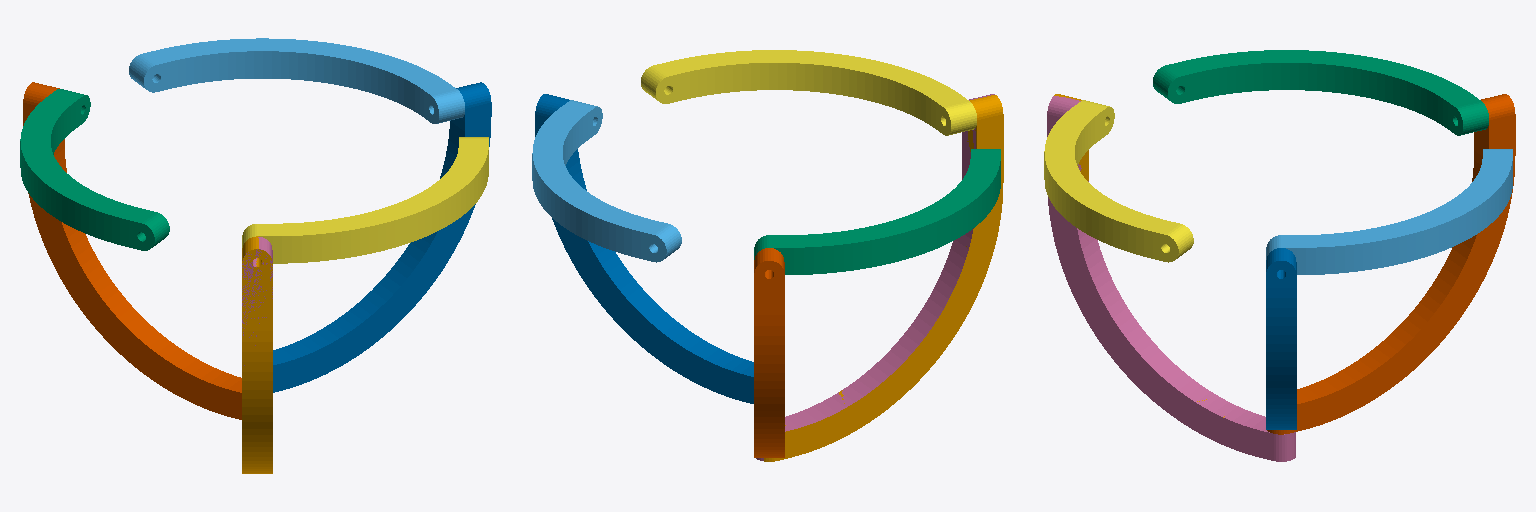
robot.urdf — parallel_spherical:
<?xml version="1.0" ?>
<robot name="parallel_spherical">
<mujoco>
  <compiler balanceinertia="true" discardvisual="false" meshdir="meshes" fusestatic="false"/>
</mujoco>
<link name="base_link">
  <inertial>
    <origin xyz="1.1370661670351178e-15 2.6096600554904347e-15 0.007499999999999476" rpy="0 0 0"/>
    <mass value="0.9575334104776773"/>
    <inertia ixx="0.0033571508473524973" iyy="0.0033571508473521" izz="0.006677996643595624" ixy="-8.710230758879048e-17" iyz="4.756714133691144e-17" ixz="2.2311041902809987e-19"/>
  </inertial>
  <visual>
    <origin xyz="0 0 0" rpy="0 0 0"/>
    <geometry>
      <mesh filename="meshes/base_link.stl" scale="0.001 0.001 0.001"/>
    </geometry>
  </visual>
  <collision>
    <origin xyz="0 0 0" rpy="0 0 0"/>
    <geometry>
      <mesh filename="meshes/base_link.stl" scale="0.001 0.001 0.001"/>
    </geometry>
  </collision>
</link>

<link name="upper_link11">
  <inertial>
    <origin xyz="0.06899575019121883 -0.031004244607133552 1.734723475976807e-18" rpy="0 0 0"/>
    <mass value="0.32011926525348455"/>
    <inertia ixx="0.0004055195003250043" iyy="0.00040551898778093485" izz="0.0007990701408253204" ixy="0.0003512112334040447" iyz="-2.2497195079074217e-18" ixz="-2.710505431213761e-20"/>
  </inertial>
  <visual>
    <origin xyz="0.0 -0.1 -0.0075" rpy="0 0 0"/>
    <geometry>
      <mesh filename="meshes/upper_link11.stl" scale="0.001 0.001 0.001"/>
    </geometry>
  </visual>
  <collision>
    <origin xyz="0.0 -0.1 -0.0075" rpy="0 0 0"/>
    <geometry>
      <mesh filename="meshes/upper_link11.stl" scale="0.001 0.001 0.001"/>
    </geometry>
  </collision>
</link>

<link name="upper_link21">
  <inertial>
    <origin xyz="-0.007646952019129058 0.07525419472232724 2.6020852139652106e-18" rpy="0 0 0"/>
    <mass value="0.3201192652534844"/>
    <inertia ixx="0.0007096769661393216" iyy="0.0001013615219666148" izz="0.0007990701408253182" ixy="-0.00017560583864011526" iyz="1.9922214919421144e-18" ixz="-1.328147661294743e-18"/>
  </inertial>
  <visual>
    <origin xyz="0.086603 0.05 -0.0075" rpy="0 0 0"/>
    <geometry>
      <mesh filename="meshes/upper_link21.stl" scale="0.001 0.001 0.001"/>
    </geometry>
  </visual>
  <collision>
    <origin xyz="0.086603 0.05 -0.0075" rpy="0 0 0"/>
    <geometry>
      <mesh filename="meshes/upper_link21.stl" scale="0.001 0.001 0.001"/>
    </geometry>
  </collision>
</link>

<link name="upper_link31">
  <inertial>
    <origin xyz="-0.06134879817208978 -0.04424995011519382 1.734723475976807e-18" rpy="0 0 0"/>
    <mass value="0.3201192652534845"/>
    <inertia ixx="0.00010136126569458082" iyy="0.0007096772224113549" izz="0.0007990701408253169" ixy="-0.00017560539476393184" iyz="1.870248747537495e-18" ixz="1.212951180468158e-18"/>
  </inertial>
  <visual>
    <origin xyz="-0.086603 0.05 -0.0075" rpy="0 0 0"/>
    <geometry>
      <mesh filename="meshes/upper_link31.stl" scale="0.001 0.001 0.001"/>
    </geometry>
  </visual>
  <collision>
    <origin xyz="-0.086603 0.05 -0.0075" rpy="0 0 0"/>
    <geometry>
      <mesh filename="meshes/upper_link31.stl" scale="0.001 0.001 0.001"/>
    </geometry>
  </collision>
</link>

<link name="lower_link11">
  <inertial>
    <origin xyz="-0.036447531687152715 1.541943557487358e-18 -0.07855246831284732" rpy="0 0 0"/>
    <mass value="0.36173571001560584"/>
    <inertia ixx="0.0005832476015041705" iyy="0.0011529662391312452" izz="0.0005832476015041714" ixy="-2.2765336725956432e-18" iyz="9.423488647145095e-20" ixz="-0.0005103757821198593"/>
  </inertial>
  <visual>
    <origin xyz="-0.115 -0.0 -0.0075" rpy="0 0 0"/>
    <geometry>
      <mesh filename="meshes/lower_link11.stl" scale="0.001 0.001 0.001"/>
    </geometry>
  </visual>
  <collision>
    <origin xyz="-0.115 -0.0 -0.0075" rpy="0 0 0"/>
    <geometry>
      <mesh filename="meshes/lower_link11.stl" scale="0.001 0.001 0.001"/>
    </geometry>
  </collision>
</link>

<link name="lower_link21">
  <inertial>
    <origin xyz="0.01672421850298575 -0.028967274277298394 -0.08736742803495864" rpy="0 0 0"/>
    <mass value="0.3882295327079039"/>
    <inertia ixx="0.001250508285924685" iyy="0.0009418103508095012" izz="0.0006319183753502847" ixy="0.000267340266886612" iyz="-0.000527152203551394" ixz="0.00030435146790068663"/>
  </inertial>
  <visual>
    <origin xyz="0.0575 -0.099593 -0.0075" rpy="0 0 0"/>
    <geometry>
      <mesh filename="meshes/lower_link21.stl" scale="0.001 0.001 0.001"/>
    </geometry>
  </visual>
  <collision>
    <origin xyz="0.0575 -0.099593 -0.0075" rpy="0 0 0"/>
    <geometry>
      <mesh filename="meshes/lower_link21.stl" scale="0.001 0.001 0.001"/>
    </geometry>
  </collision>
</link>

<link name="lower_link31">
  <inertial>
    <origin xyz="0.015416263483477029 0.02670183114656978 -0.09601433483805455" rpy="0 0 0"/>
    <mass value="0.4147232258009921"/>
    <inertia ixx="0.001528414915038666" iyy="0.0011989241429330019" izz="0.0006744974877580362" ixy="-0.0002853473482560796" iyz="0.0006146183641304883" ixz="0.00035485007365117856"/>
  </inertial>
  <visual>
    <origin xyz="0.0575 0.099593 -0.0075" rpy="0 0 0"/>
    <geometry>
      <mesh filename="meshes/lower_link31.stl" scale="0.001 0.001 0.001"/>
    </geometry>
  </visual>
  <collision>
    <origin xyz="0.0575 0.099593 -0.0075" rpy="0 0 0"/>
    <geometry>
      <mesh filename="meshes/lower_link31.stl" scale="0.001 0.001 0.001"/>
    </geometry>
  </collision>
</link>

<joint name="base-1" type="continuous">
  <origin xyz="0.0 0.1 0.0075" rpy="0 0 0"/>
  <parent link="base_link"/>
  <child link="upper_link11"/>
  <axis xyz="-0.0 -1.0 0.0"/>
</joint>
<transmission name="base-1_tran">
  <type>transmission_interface/SimpleTransmission</type>
  <joint name="base-1">
    <hardwareInterface>PositionJointInterface</hardwareInterface>
  </joint>
  <actuator name="base-1_actr">
    <hardwareInterface>PositionJointInterface</hardwareInterface>
    <mechanicalReduction>1</mechanicalReduction>
  </actuator>
</transmission>

<joint name="base-2" type="continuous">
  <origin xyz="-0.086603 -0.05 0.0075" rpy="0 0 0"/>
  <parent link="base_link"/>
  <child link="upper_link21"/>
  <axis xyz="0.866025 0.5 0.0"/>
</joint>
<transmission name="base-2_tran">
  <type>transmission_interface/SimpleTransmission</type>
  <joint name="base-2">
    <hardwareInterface>PositionJointInterface</hardwareInterface>
  </joint>
  <actuator name="base-2_actr">
    <hardwareInterface>PositionJointInterface</hardwareInterface>
    <mechanicalReduction>1</mechanicalReduction>
  </actuator>
</transmission>

<joint name="base-3" type="continuous">
  <origin xyz="0.086603 -0.05 0.0075" rpy="0 0 0"/>
  <parent link="base_link"/>
  <child link="upper_link31"/>
  <axis xyz="-0.866025 0.5 0.0"/>
</joint>
<transmission name="base-3_tran">
  <type>transmission_interface/SimpleTransmission</type>
  <joint name="base-3">
    <hardwareInterface>PositionJointInterface</hardwareInterface>
  </joint>
  <actuator name="base-3_actr">
    <hardwareInterface>PositionJointInterface</hardwareInterface>
    <mechanicalReduction>1</mechanicalReduction>
  </actuator>
</transmission>

<joint name="1-1" type="continuous">
  <origin xyz="0.115 -0.1 0.0" rpy="0 0 0"/>
  <parent link="upper_link11"/>
  <child link="lower_link11"/>
  <axis xyz="-1.0 0.0 0.0"/>
</joint>
<transmission name="1-1_tran">
  <type>transmission_interface/SimpleTransmission</type>
  <joint name="1-1">
    <hardwareInterface>PositionJointInterface</hardwareInterface>
  </joint>
  <actuator name="1-1_actr">
    <hardwareInterface>PositionJointInterface</hardwareInterface>
    <mechanicalReduction>1</mechanicalReduction>
  </actuator>
</transmission>

<joint name="2-2" type="continuous">
  <origin xyz="0.029103 0.149593 0.0" rpy="0 0 0"/>
  <parent link="upper_link21"/>
  <child link="lower_link21"/>
  <axis xyz="0.5 -0.866025 0.0"/>
</joint>
<transmission name="2-2_tran">
  <type>transmission_interface/SimpleTransmission</type>
  <joint name="2-2">
    <hardwareInterface>PositionJointInterface</hardwareInterface>
  </joint>
  <actuator name="2-2_actr">
    <hardwareInterface>PositionJointInterface</hardwareInterface>
    <mechanicalReduction>1</mechanicalReduction>
  </actuator>
</transmission>

<joint name="3-3" type="continuous">
  <origin xyz="-0.144103 -0.049593 0.0" rpy="0 0 0"/>
  <parent link="upper_link31"/>
  <child link="lower_link31"/>
  <axis xyz="0.5 0.866025 0.0"/>
</joint>
<transmission name="3-3_tran">
  <type>transmission_interface/SimpleTransmission</type>
  <joint name="3-3">
    <hardwareInterface>PositionJointInterface</hardwareInterface>
  </joint>
  <actuator name="3-3_actr">
    <hardwareInterface>PositionJointInterface</hardwareInterface>
    <mechanicalReduction>1</mechanicalReduction>
  </actuator>
</transmission>

</robot>

--- What the picture shows (computed from the rendered views, not written in the file) ---
The picture shows the robot from 3 angles, left to right: view 1: azimuth 30°, elevation 25°; view 2: azimuth 150°, elevation 25°; view 3: azimuth 270°, elevation 25°; orthographic projection.
Model parallel_spherical with 7 links and 6 joints (6 continuous), rooted at base_link, posed all joints at 0.
Visible links, largest first — view 1: upper_link11, lower_link21, lower_link11, upper_link31, upper_link21, base_link, lower_link31; view 2: upper_link31, lower_link11, upper_link21, base_link, upper_link11, lower_link21, lower_link31; view 3: lower_link31, upper_link21, lower_link21, upper_link11, upper_link31, lower_link11.
Boxes of the visible links, x1=… form: upper_link11: x1=129, y1=38, x2=464, y2=123; lower_link21: x1=23, y1=82, x2=241, y2=419; lower_link11: x1=273, y1=82, x2=491, y2=392; upper_link31: x1=242, y1=137, x2=488, y2=263; upper_link21: x1=20, y1=89, x2=169, y2=250; base_link: x1=242, y1=236, x2=272, y2=473; lower_link31: x1=242, y1=237, x2=272, y2=365; upper_link31: x1=641, y1=50, x2=976, y2=135; lower_link11: x1=535, y1=94, x2=753, y2=403; upper_link21: x1=754, y1=149, x2=1000, y2=274; base_link: x1=764, y1=95, x2=1003, y2=461; upper_link11: x1=532, y1=100, x2=681, y2=262; lower_link21: x1=754, y1=248, x2=784, y2=457; lower_link31: x1=756, y1=94, x2=994, y2=460; lower_link31: x1=1047, y1=96, x2=1295, y2=461; upper_link21: x1=1153, y1=50, x2=1488, y2=135; lower_link21: x1=1267, y1=94, x2=1515, y2=434; upper_link11: x1=1266, y1=149, x2=1512, y2=274; upper_link31: x1=1044, y1=100, x2=1193, y2=262; lower_link11: x1=1266, y1=248, x2=1296, y2=429.
Bounding box of the posed robot: 0.2477 × 0.2341 × 0.1675 m (x, y, z).
Meshes: 7 distinct files referenced, 7 mesh visuals loaded (7 binary STL).